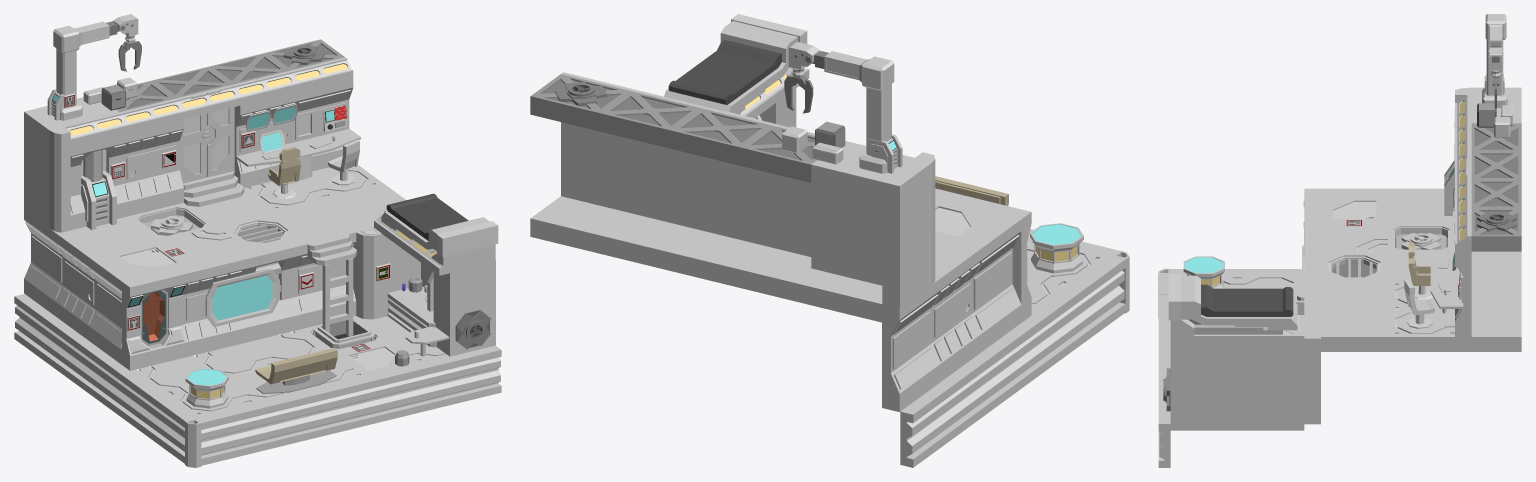
File: SciFi.fbx
3 renders of one model, left to right at view 1: azimuth 30°, elevation 25°; view 2: azimuth 150°, elevation 25°; view 3: azimuth 270°, elevation 25°, orthographic. The views are drawn at different scales.
Visible parts, largest first — view 1: SciFi, SciFi_Modular_Tile_Wall_White_01 (3), SciFi_Modular_Tile_Wall_White_01 (1), SciFi_Modular_Wall_Section_Corner_White_03 (1), SciFi_Modular_Tile_Wall_White_08 (1), SciFi_Modular_Wall_Section_White_01 (2), SciFi_Modular_Tile_Wall_White_08 (2), SciFi_Modular_Tile_Wall_White_01 (2), SciFi_Modular_Tile_Pipes_White_01 (6), SciFi_Modular_Tile_Pipes_White_01 (4), SciFi_Modular_Tile_Pipes_White_01 (1), SciFi_Modular_Tile_Pipes_White_01 (2) (+40 smaller); view 2: SciFi, SciFi_Modular_Wall_Section_White_01 (4), SciFi_Modular_Tile_Wall_White_08 (2), SciFi_Modular_Tile_Wall_White_01 (2), SciFi_Modular_Wall_Section_White_01 (3), SciFi_Modular_Tile_Wall_White_08 (1), SciFi_Modular_Tile_Wall_White_01 (1), SciFi_Modular_Tile_White_06 (22), SciFi_Modular_Tile_White_06 (23), SciFi_Modular_Tile_White_06 (20), SciFi_Modular_Tile_Grey_08 (1), SciFi_Modular_Tile_White_06 (21) (+19 smaller); view 3: SciFi, SciFi_Modular_Wall_Section_White_01 (1), SciFi_Modular_Tile_White_06 (13), SciFi_Modular_Tile_White_01 (5), SciFi_Modular_Tile_White_06 (23), SciFi_Modular_Tile_White_06 (12), SciFi_Modular_Tile_White_07 (3), SciFi_Modular_Tile_White_03 (1), SciFi_Modular_Tile_White_06 (18), SciFi_Modular_Tile_Grey_08 (2), SciFi_Modular_Tile_White_06 (22), SciFi_Modular_Tile_White_06 (20) (+20 smaller).
Boxes of the visible parts, x1,y1,x2,y2 form: SciFi: [53, 14, 498, 467]; SciFi_Modular_Tile_Wall_White_01 (3): [123, 119, 183, 216]; SciFi_Modular_Tile_Wall_White_01 (1): [56, 230, 102, 340]; SciFi_Modular_Wall_Section_Corner_White_03 (1): [40, 120, 70, 232]; SciFi_Modular_Tile_Wall_White_08 (1): [89, 254, 135, 364]; SciFi_Modular_Wall_Section_White_01 (2): [433, 266, 477, 356]; SciFi_Modular_Tile_Wall_White_08 (2): [24, 210, 63, 316]; SciFi_Modular_Tile_Wall_White_01 (2): [234, 92, 296, 187]; SciFi_Modular_Tile_Pipes_White_01 (6): [441, 349, 487, 405]; SciFi_Modular_Tile_Pipes_White_01 (4): [400, 359, 446, 415]; SciFi_Modular_Tile_Pipes_White_01 (1): [236, 399, 282, 455]; SciFi_Modular_Tile_Pipes_White_01 (2): [277, 389, 323, 445]; SciFi: [561, 14, 1129, 322]; SciFi_Modular_Wall_Section_White_01 (4): [811, 143, 912, 285]; SciFi_Modular_Tile_Wall_White_08 (2): [882, 277, 940, 411]; SciFi_Modular_Tile_Wall_White_01 (2): [631, 139, 701, 230]; SciFi_Modular_Wall_Section_White_01 (3): [882, 167, 919, 308]; SciFi_Modular_Tile_Wall_White_08 (1): [963, 215, 1021, 352]; SciFi_Modular_Tile_Wall_White_01 (1): [931, 244, 980, 381]; SciFi_Modular_Tile_White_06 (22): [600, 213, 701, 270]; SciFi_Modular_Tile_White_06 (23): [530, 196, 630, 253]; SciFi_Modular_Tile_White_06 (20): [671, 230, 771, 287]; SciFi_Modular_Tile_Grey_08 (1): [600, 91, 700, 148]; SciFi_Modular_Tile_White_06 (21): [741, 247, 830, 305]; SciFi: [1158, 14, 1521, 411]; SciFi_Modular_Wall_Section_White_01 (1): [1170, 330, 1320, 424]; SciFi_Modular_Tile_White_06 (13): [1321, 308, 1387, 351]; SciFi_Modular_Tile_White_01 (5): [1388, 308, 1454, 351]; SciFi_Modular_Tile_White_06 (23): [1455, 308, 1521, 351]; SciFi_Modular_Tile_White_06 (12): [1321, 280, 1387, 308]; SciFi_Modular_Tile_White_07 (3): [1321, 224, 1387, 252]; SciFi_Modular_Tile_White_03 (1): [1321, 195, 1387, 223]; SciFi_Modular_Tile_White_06 (18): [1388, 195, 1452, 223]; SciFi_Modular_Tile_Grey_08 (2): [1471, 208, 1521, 251]; SciFi_Modular_Tile_White_06 (22): [1471, 280, 1521, 308]; SciFi_Modular_Tile_White_06 (20): [1471, 252, 1521, 280].
Bounding box in the file's own units: 11.05 × 10.43 × 10.87.
